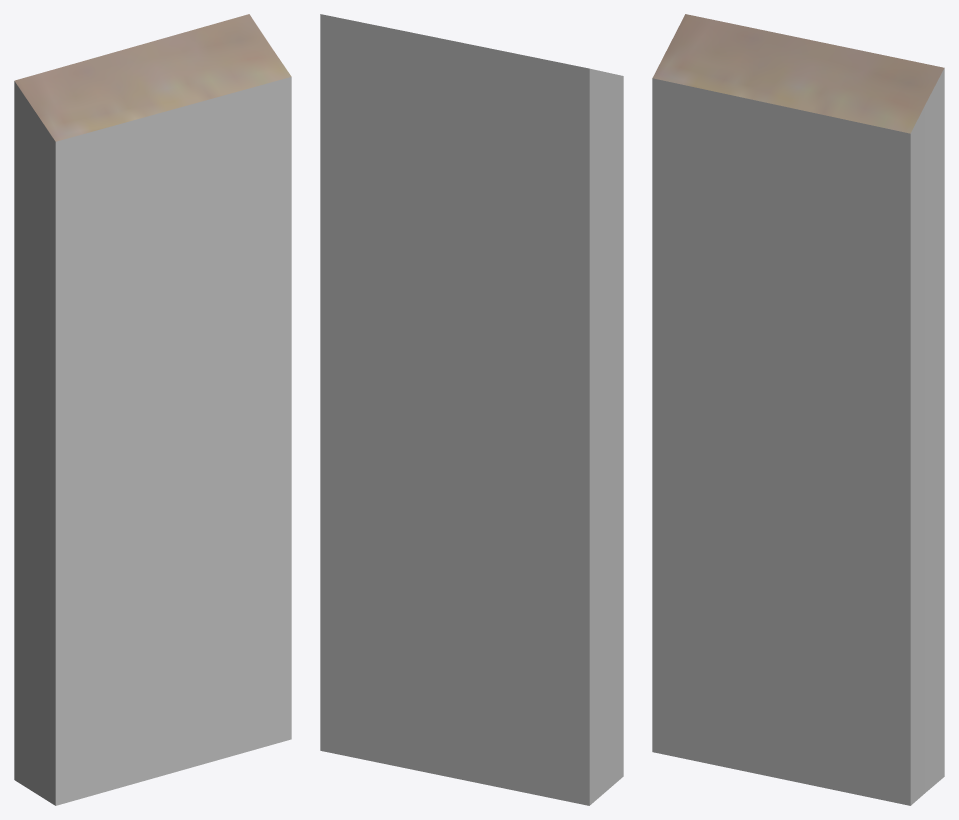
The model's file is DEBW_0010007TI06.gltf.
3 renders of one model, left to right at view 1: azimuth 30°, elevation 25°; view 2: azimuth 150°, elevation 25°; view 3: azimuth 330°, elevation 25°, orthographic. The views are drawn at different scales.
Visible parts, largest first — view 1: Z_UP; view 2: Z_UP; view 3: Z_UP.
Part boxes in pixels (left/top/right/bottom): Z_UP: left=14, top=14, right=291, bottom=805; Z_UP: left=320, top=14, right=623, bottom=805; Z_UP: left=652, top=14, right=944, bottom=805.
Bounding box in the file's own units: 4.53 × 12.13 × 1.48.
2 materials, 1 textured.
